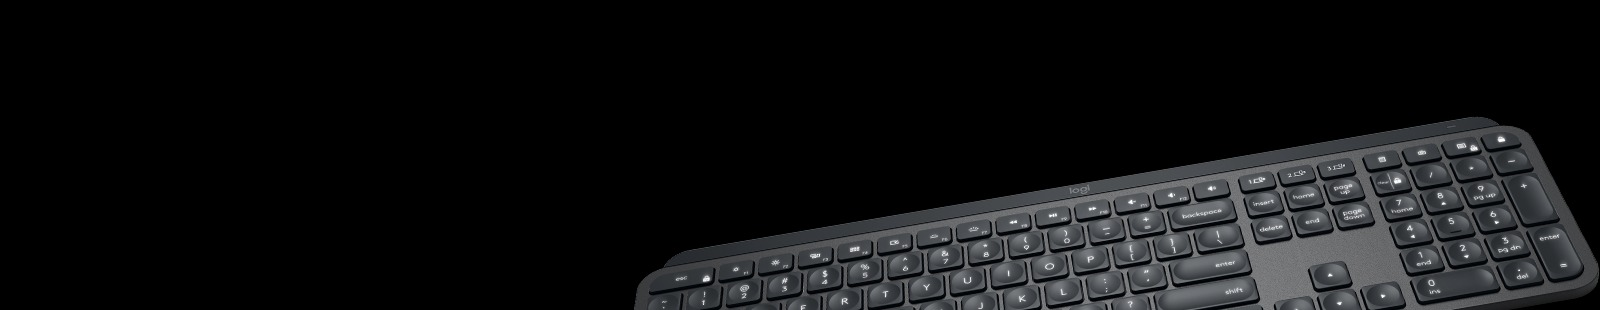keyboard: (622, 120, 1600, 310)
